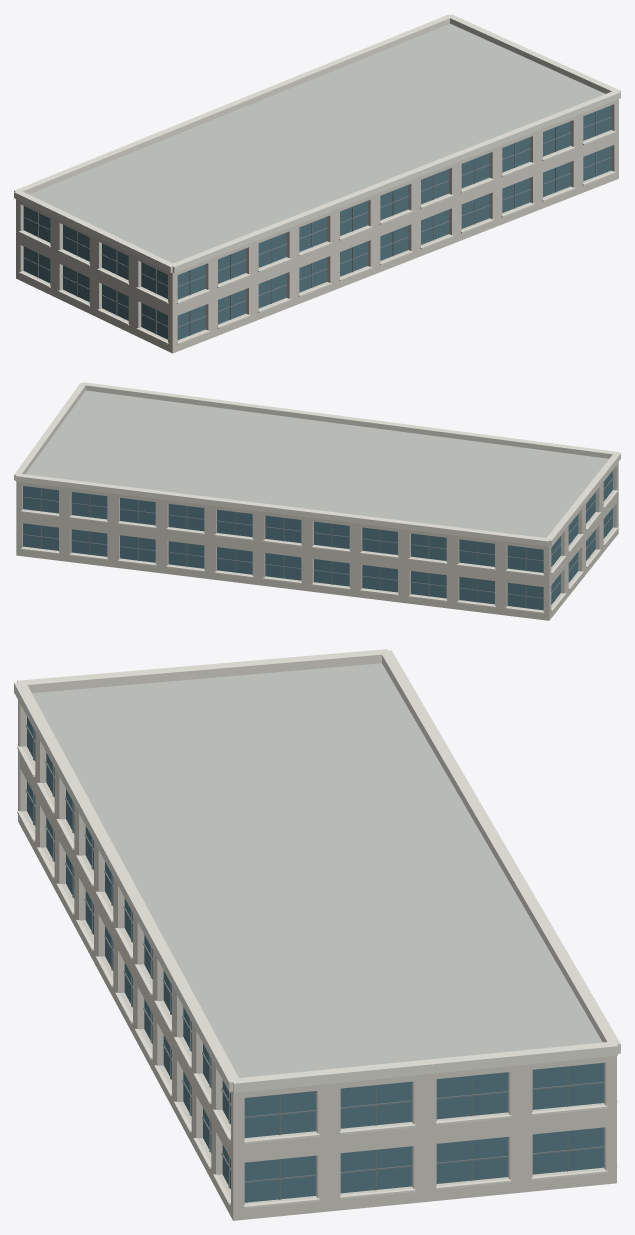
3 views of the same model, one above another, from view 1: azimuth 30°, elevation 25°; view 2: azimuth 150°, elevation 25°; view 3: azimuth 270°, elevation 25° (orthographic). The views are drawn at different scales.
Visible parts, largest first — view 1: roof, wall, glass, trim, metal; view 2: roof, wall, glass, trim, metal; view 3: roof, wall, trim, glass, metal.
Boxes of the visible parts, x1,y1,x2,y2 form: roof: (29, 23, 604, 263); wall: (16, 99, 618, 353); glass: (23, 105, 611, 339); trim: (14, 14, 620, 344); metal: (23, 111, 611, 335); roof: (25, 390, 608, 537); wall: (16, 462, 618, 620); glass: (23, 470, 612, 610); trim: (14, 382, 620, 613); metal: (23, 477, 613, 608); roof: (32, 663, 602, 1077); wall: (18, 700, 616, 1220); trim: (14, 649, 620, 1208); glass: (27, 717, 603, 1202); metal: (25, 725, 604, 1199).
Bounding box in the file's own units: 43.24 × 6.44 × 25.52.
